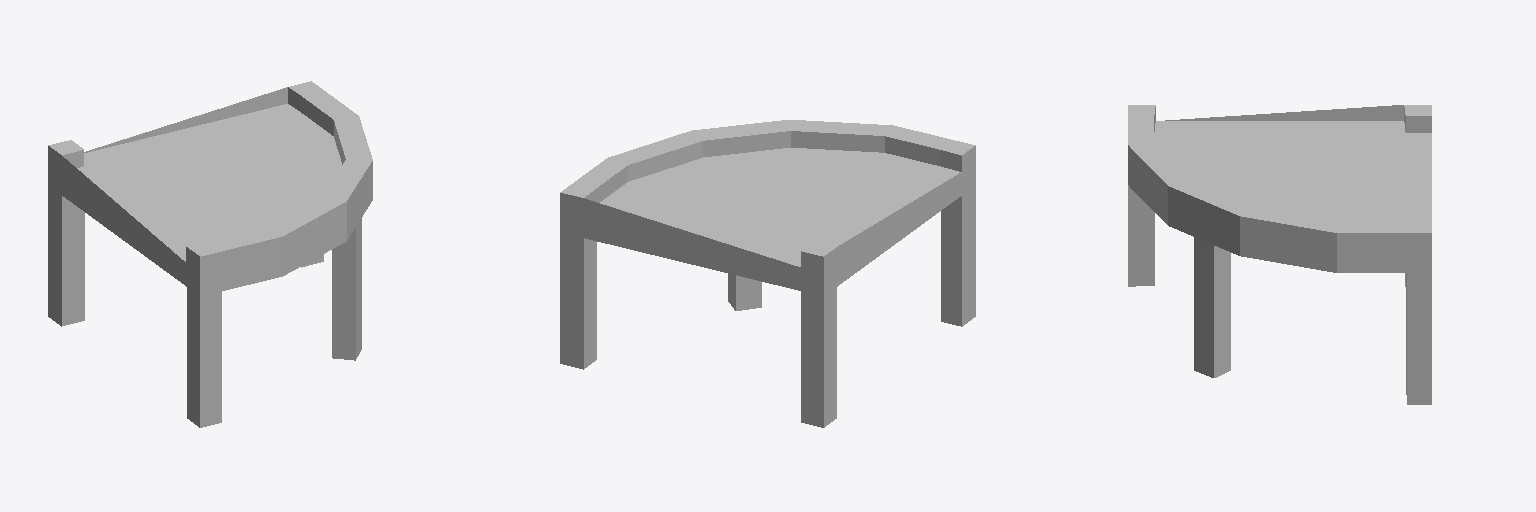
The model's file is ConveyorTurn01.obj.
3 views of the same model, side by side, from view 1: azimuth 30°, elevation 25°; view 2: azimuth 150°, elevation 25°; view 3: azimuth 270°, elevation 25° (orthographic).
Parts seen in each view (by area): view 1: Cube12; view 2: Cube12; view 3: Cube12.
Part boxes in pixels (left/top/right/bottom): Cube12: left=48, top=81, right=372, bottom=427; Cube12: left=560, top=120, right=975, bottom=427; Cube12: left=1128, top=105, right=1431, bottom=404.
Size of the model in its own units: 1 by 0.6314 by 1.